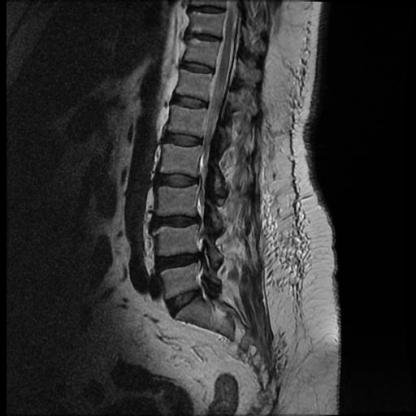Degenerative Disc Diseaserotation: (155, 252, 202, 273)
Disc Bulgerotation: (151, 212, 197, 238), (155, 252, 202, 273), (168, 290, 204, 313), (156, 172, 197, 192), (164, 130, 203, 150)
